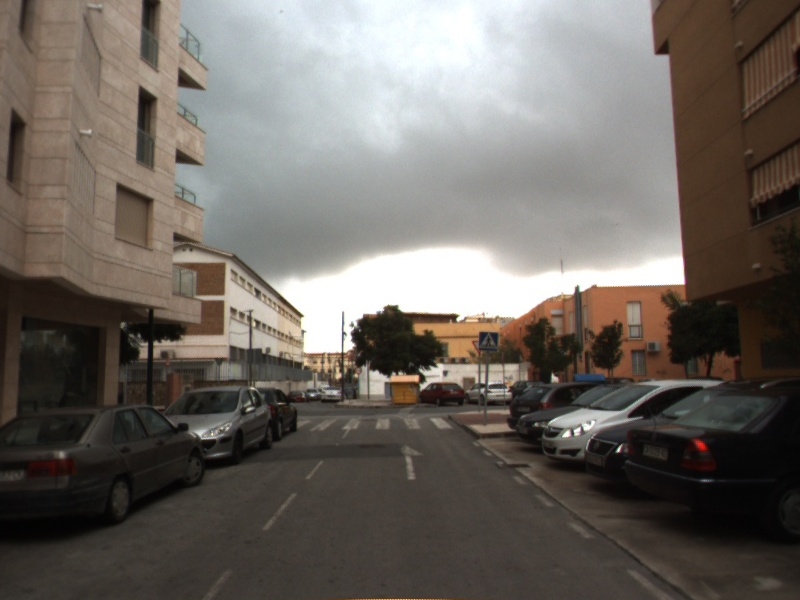STRAIGHT: (398, 443, 427, 481)
